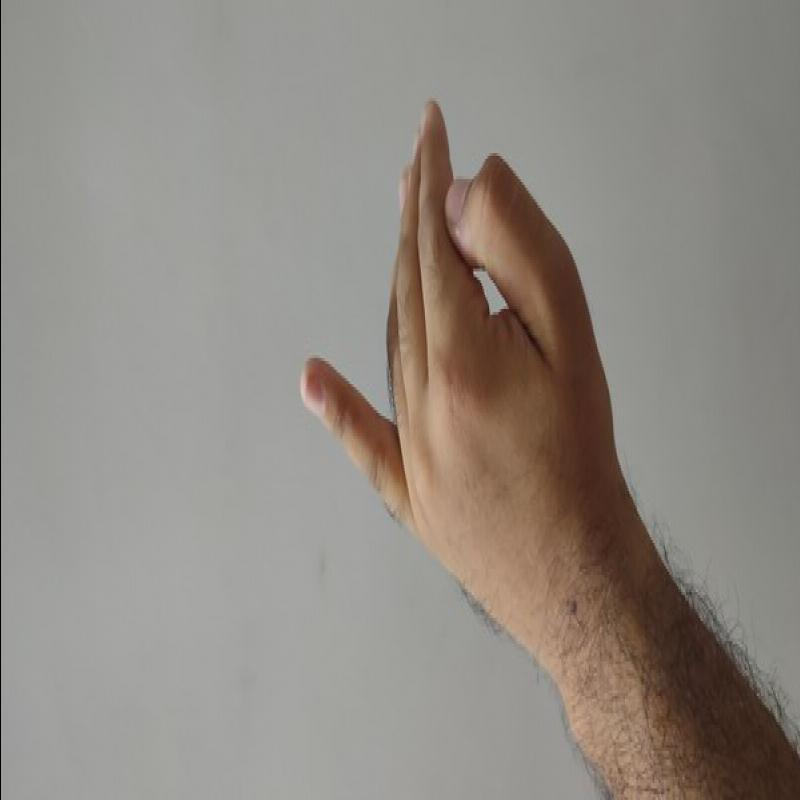Kartharee Mukham: (279, 80, 645, 658)
